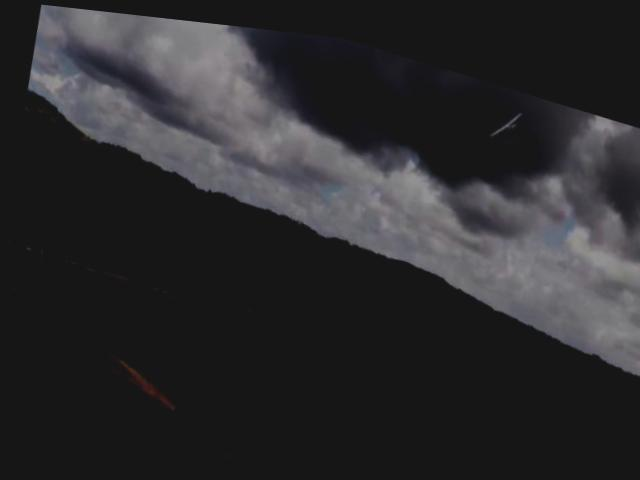iha: (486, 87, 524, 134)
